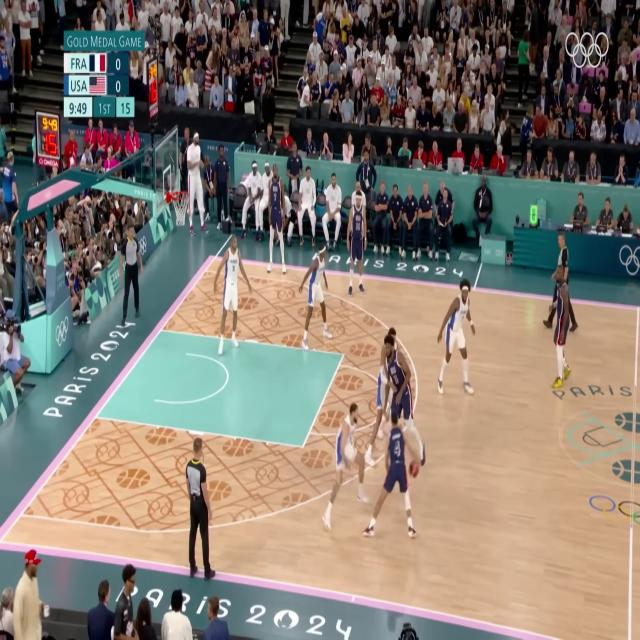ball-handler: (374, 409, 423, 539)
player: (317, 382, 370, 528), (383, 332, 430, 467), (432, 277, 477, 404), (212, 230, 252, 355), (299, 243, 333, 353), (265, 162, 288, 279), (550, 262, 570, 392), (345, 191, 365, 297), (372, 321, 392, 423)
